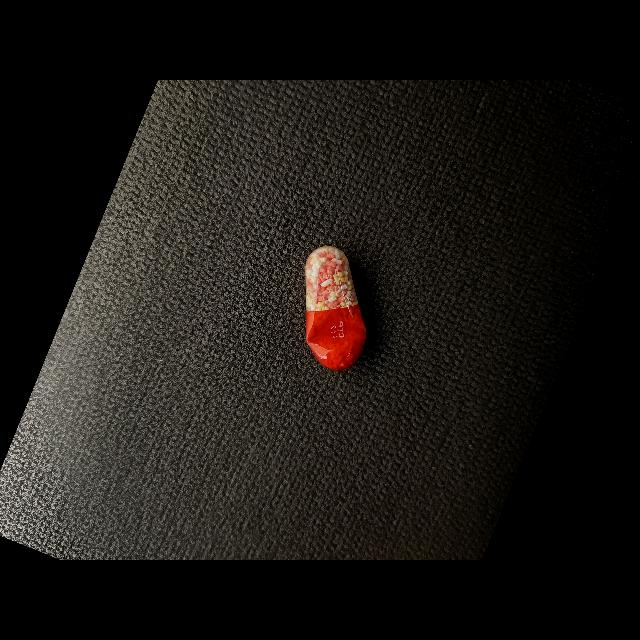Defective Capsule: (305, 246, 366, 370)
